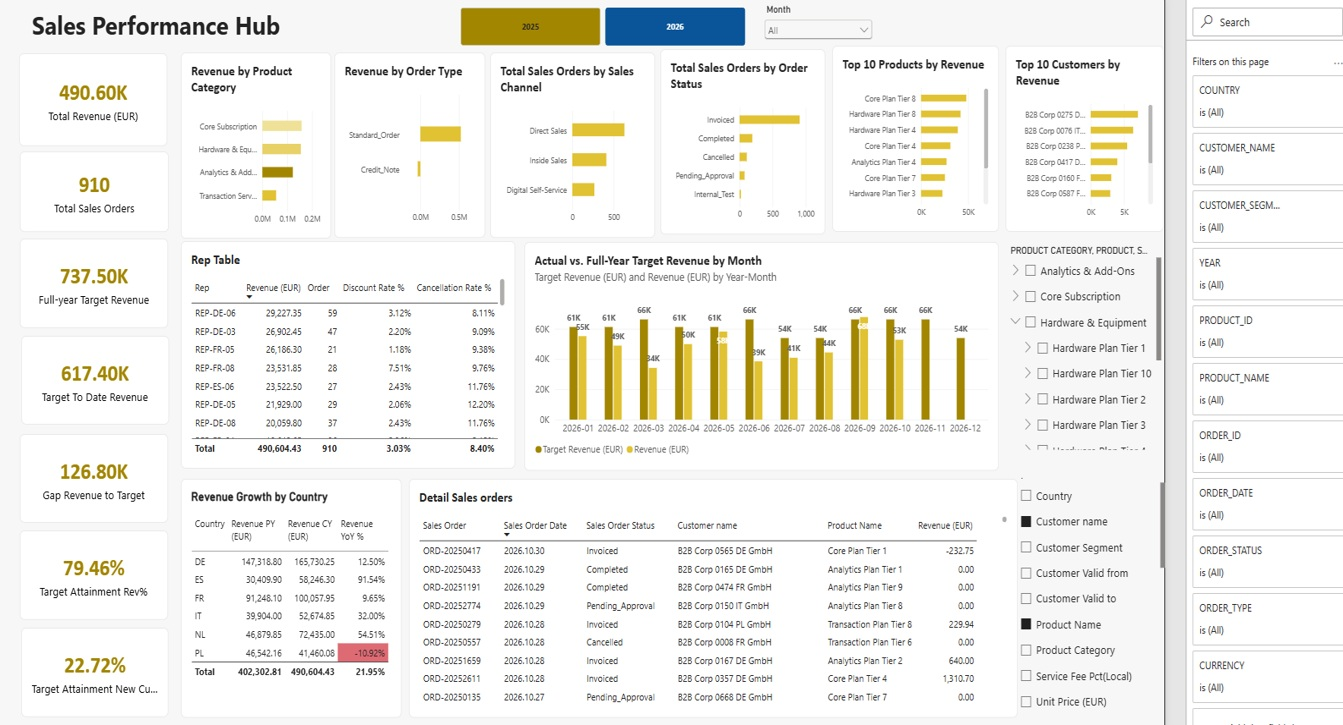

The page's visual inventory and layout, read from the dashboard file:
{"tool":"powerbi","page":{"name":"Sales Performance Hub","canvas":[1920,1080],"ordinal":1},"visuals":[{"type":"card","fields":{"Values":["Sum(FCT_SALES.REVENUE_WITH_SIGN_EUR)"]},"box":[35,81.2,244.2,136.7],"z":0},{"type":"card","fields":{"Values":["Count(FCT_SALES.ORDER_ID)"]},"box":[36.6,226.1,245.2,119.4],"z":1000},{"type":"tableEx","title":"Rep Table","fields":{"Values":["DIM_CUSTOMER.PRIMARY_SALES_REP_ID","Sum(FCT_SALES.REVENUE_WITH_SIGN_EUR)","FCT_SALES.ELIGIBLE_ORDER","FCT_SALES.Discount Rate %","FCT_SALES.Cancellation Rate %"]},"box":[301.2,358.8,550,336.2],"z":2000},{"type":"textbox","box":[56.3,13.7,661.8,56.3],"z":3000},{"type":"tableEx","title":"Revenue Growth by Country","fields":{"Values":["DIM_COUNTRY.COUNTRY","FCT_SALES.Revenue PY","Sum(FCT_SALES.REVENUE_WITH_SIGN_EUR)","FCT_SALES.Revenue YoY %"]},"box":[301.2,710,362.5,352.5],"z":4000},{"type":"advancedSlicerVisual","fields":{"Values":["DIM_DATE.YEAR"]},"box":[761.6,13.1,469.8,56.9],"z":5000},{"type":"clusteredBarChart","title":"Revenue by Product Category","fields":{"Category":["DIM_PRODUCT.PRODUCT_CATEGORY"],"Y":["Sum(FCT_SALES.REVENUE_WITH_SIGN_EUR)"]},"box":[300.9,79.6,246.8,275.4],"z":6000},{"type":"clusteredBarChart","title":"Revenue by Order Type","fields":{"Category":["FCT_SALES.ORDER_TYPE"],"Y":["Sum(FCT_SALES.REVENUE_WITH_SIGN_EUR)"]},"box":[554,79.6,248.4,273.8],"z":7000},{"type":"clusteredBarChart","title":"Top 10 Products by Revenue","fields":{"Category":["DIM_PRODUCT.PRODUCT_NAME"],"Y":["Sum(FCT_SALES.REVENUE_WITH_SIGN_EUR)"]},"box":[1372.3,70,273.8,275.4],"z":8000},{"type":"slicer","fields":{"Values":["DIM_PRODUCT.PRODUCT_CATEGORY","DIM_PRODUCT.PRODUCT_NAME","DIM_PRODUCT.SERVICE_FEE_PCT"]},"box":[1657.3,364.6,256.3,302.5],"z":9000},{"type":"slicer","fields":{"Values":["DIM_DATE.MONTH_NAME"]},"box":[1256.2,8.8,186.7,71.5],"z":10000},{"type":"clusteredBarChart","title":"Total Sales Orders by Order Status","fields":{"Category":["FCT_SALES.ORDER_STATUS"],"Y":["Count(FCT_SALES.ORDER_ID)"]},"box":[1090,74.8,270.6,273.8],"z":11000},{"type":"clusteredColumnChart","title":"Actual vs. Full-Year Target Revenue by Month","fields":{"Category":["DIM_DATE.YEAR_MONTH"],"Y":["Sum(FACT_SALES_TARGET.TARGET_NET_REVENUE_EUR)","Sum(FCT_SALES.REVENUE_WITH_SIGN_EUR)"]},"box":[866.2,360,780,337.5],"z":12000},{"type":"card","title":"Full-year target","fields":{"Values":["Sum(FACT_SALES_TARGET.TARGET_NET_REVENUE_EUR)"]},"box":[36.9,354.7,244.2,132.1],"z":13000},{"type":"slicer","fields":{"Values":["Parameter.Parameter"]},"box":[1674.8,697.3,245.2,364.6],"z":14000},{"type":"tableEx","title":"Detail Sales orders","fields":{"Values":["FCT_SALES.ORDER_ID","FCT_SALES.ORDER_DATE","FCT_SALES.ORDER_STATUS","DIM_CUSTOMER.CUSTOMER_NAME","DIM_PRODUCT.PRODUCT_NAME","FCT_SALES.REVENUE_WITH_SIGN_EUR"]},"box":[675.7,710,1001.4,352.9],"z":15000},{"type":"clusteredBarChart","title":"Total Sales Orders by Sales Channel","fields":{"Category":["FCT_SALES.SALES_CHANNEL"],"Y":["Count(FCT_SALES.ORDER_ID)"]},"box":[809.8,79.6,270.6,273.8],"z":16000},{"type":"clusteredBarChart","title":"Top 10 Customers by Revenue","fields":{"Category":["DIM_CUSTOMER.CUSTOMER_NAME"],"Y":["Sum(FCT_SALES.REVENUE_WITH_SIGN_EUR)"]},"box":[1657.3,70,259.5,275.4],"z":17000},{"type":"card","title":"Full-year target","fields":{"Values":["FACT_SALES_TARGET.Target Attainment Revenue%"]},"box":[36.6,786.5,243.6,132.1],"z":18000},{"type":"card","title":"Full-year target","fields":{"Values":["FACT_SALES_TARGET.Target Attainment New Customer%"]},"box":[38.2,929.8,242,132.1],"z":19000},{"type":"card","title":"Full-year target","fields":{"Values":["FACT_SALES_TARGET.Gap Revenue to Target"]},"box":[36.2,643.8,243.8,131.2],"z":20000},{"type":"card","title":"Full-year target","fields":{"Values":["FACT_SALES_TARGET.Target To Date Revenue"]},"box":[38.8,498.8,242.5,131.2],"z":21000}]}

Visuals, with their boxes on the page's 1920x1080 design canvas (x1, y1, x2, y2). These are canvas units, not pixel positions in the 1343x725 screenshot, which may show the page scaled, cropped or inside an application window:
card - Sum(FCT_SALES.REVENUE_WITH_SIGN_EUR): pyautogui.locateOnScreen(35, 81, 279, 218)
card - Count(FCT_SALES.ORDER_ID): pyautogui.locateOnScreen(37, 226, 282, 346)
"Rep Table" tableEx: pyautogui.locateOnScreen(301, 359, 851, 695)
textbox: pyautogui.locateOnScreen(56, 14, 718, 70)
"Revenue Growth by Country" tableEx: pyautogui.locateOnScreen(301, 710, 664, 1062)
advancedSlicerVisual - DIM_DATE.YEAR: pyautogui.locateOnScreen(762, 13, 1231, 70)
"Revenue by Product Category" clusteredBarChart: pyautogui.locateOnScreen(301, 80, 548, 355)
"Revenue by Order Type" clusteredBarChart: pyautogui.locateOnScreen(554, 80, 802, 353)
"Top 10 Products by Revenue" clusteredBarChart: pyautogui.locateOnScreen(1372, 70, 1646, 345)
slicer - DIM_PRODUCT.PRODUCT_CATEGORY x DIM_PRODUCT.PRODUCT_NAME: pyautogui.locateOnScreen(1657, 365, 1914, 667)
slicer - DIM_DATE.MONTH_NAME: pyautogui.locateOnScreen(1256, 9, 1443, 80)
"Total Sales Orders by Order Status" clusteredBarChart: pyautogui.locateOnScreen(1090, 75, 1361, 349)
"Actual vs. Full-Year Target Revenue by Month" clusteredColumnChart: pyautogui.locateOnScreen(866, 360, 1646, 698)
"Full-year target" card: pyautogui.locateOnScreen(37, 355, 281, 487)
slicer - Parameter.Parameter: pyautogui.locateOnScreen(1675, 697, 1920, 1062)
"Detail Sales orders" tableEx: pyautogui.locateOnScreen(676, 710, 1677, 1063)
"Total Sales Orders by Sales Channel" clusteredBarChart: pyautogui.locateOnScreen(810, 80, 1080, 353)
"Top 10 Customers by Revenue" clusteredBarChart: pyautogui.locateOnScreen(1657, 70, 1917, 345)
"Full-year target" card: pyautogui.locateOnScreen(37, 786, 280, 919)
"Full-year target" card: pyautogui.locateOnScreen(38, 930, 280, 1062)
"Full-year target" card: pyautogui.locateOnScreen(36, 644, 280, 775)
"Full-year target" card: pyautogui.locateOnScreen(39, 499, 281, 630)
